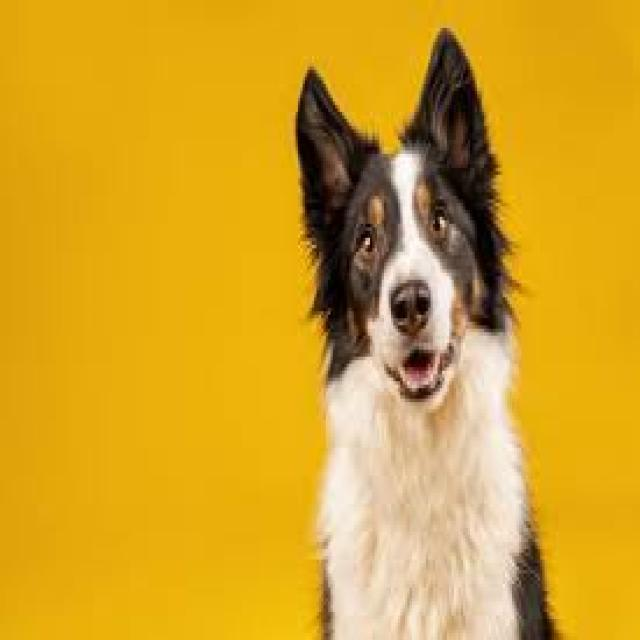Dog: (272, 14, 576, 640)
